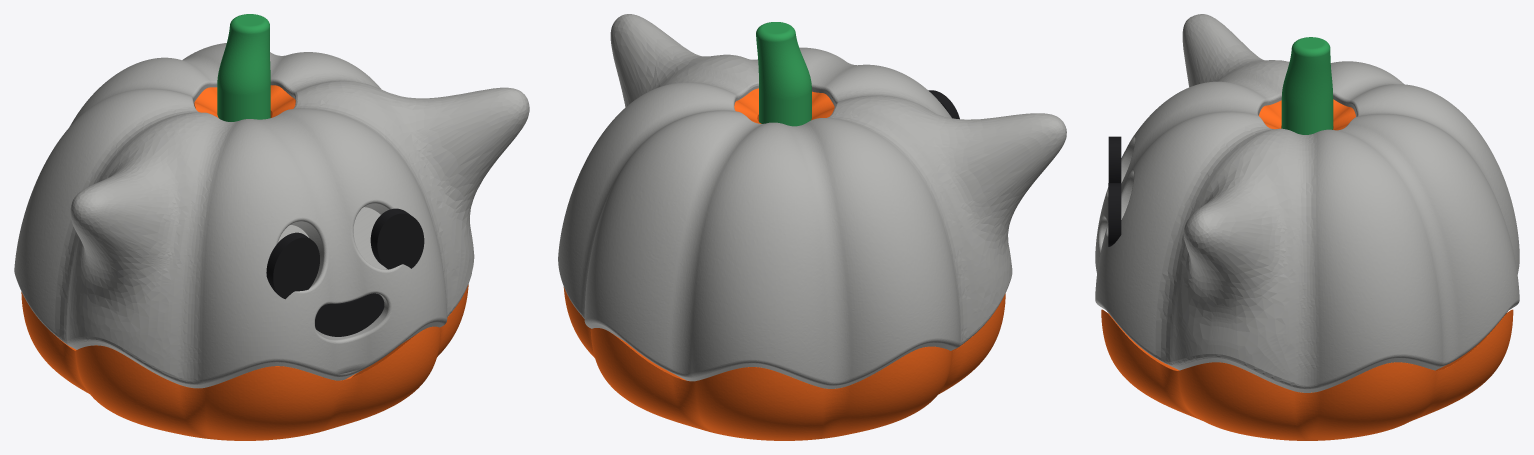
File: ghost-pumpkin.glb
The picture shows the model from 3 angles, left to right: view 1: azimuth 30°, elevation 25°; view 2: azimuth 150°, elevation 25°; view 3: azimuth 270°, elevation 25°; orthographic projection. The views are drawn at different scales.
Parts seen in each view (by area): view 1: ghost-pumpkin; view 2: ghost-pumpkin; view 3: ghost-pumpkin.
Part boxes in pixels (x1,y1,x2,y2): ghost-pumpkin: (14,14,529,440); ghost-pumpkin: (558,14,1066,440); ghost-pumpkin: (1095,14,1519,440).
Size of the model in its own units: 78.67 by 58.9 by 66.15.
